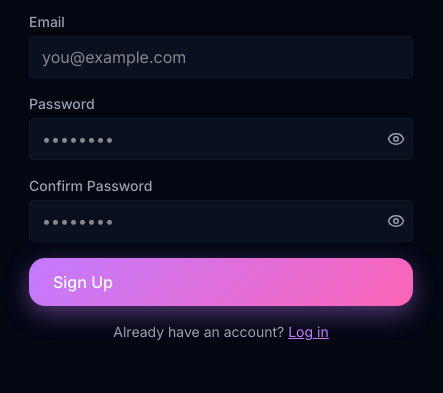
Test: SignupForm › shows error message on signup failure
Type "test@example.com" into the field labelled "Email".
click(221, 57); type("test@example.com")  # box x1=29 y1=36 x2=413 y2=78
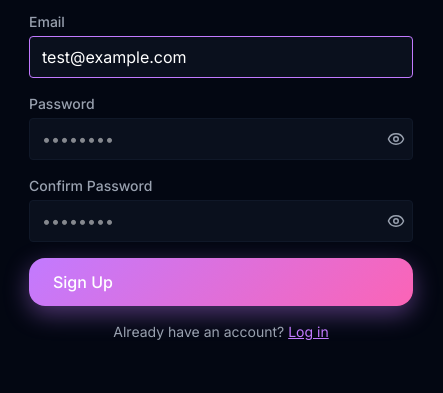
Type "secret123" into the password field labelled "Password".
click(221, 139); type("secret123")  # box x1=29 y1=118 x2=413 y2=160
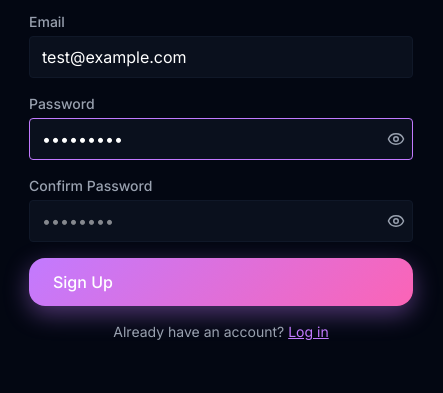
Type "secret123" into the password field labelled "Confirm Password".
click(221, 221); type("secret123")  # box x1=29 y1=200 x2=413 y2=242
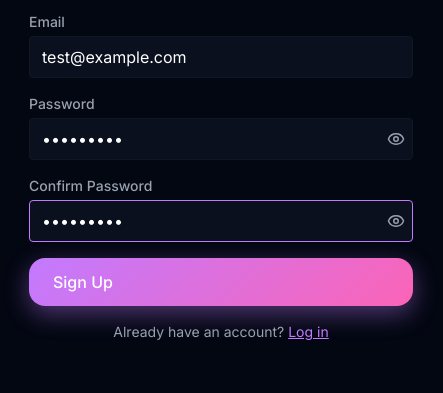
Click the button "Sign Up".
click(83, 282)  # box x1=29 y1=258 x2=413 y2=306
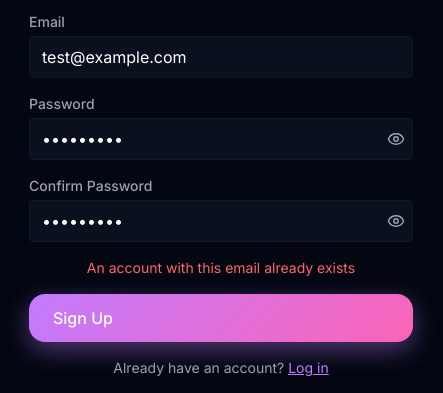
Expected: the message reads "An account with this email already exists", x1=87 y1=259 x2=355 y2=276
